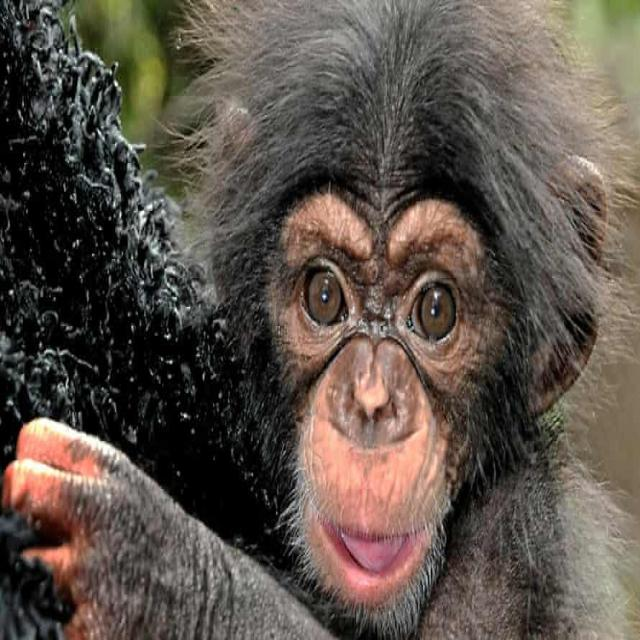Chimpanzee: (91, 5, 633, 640)
